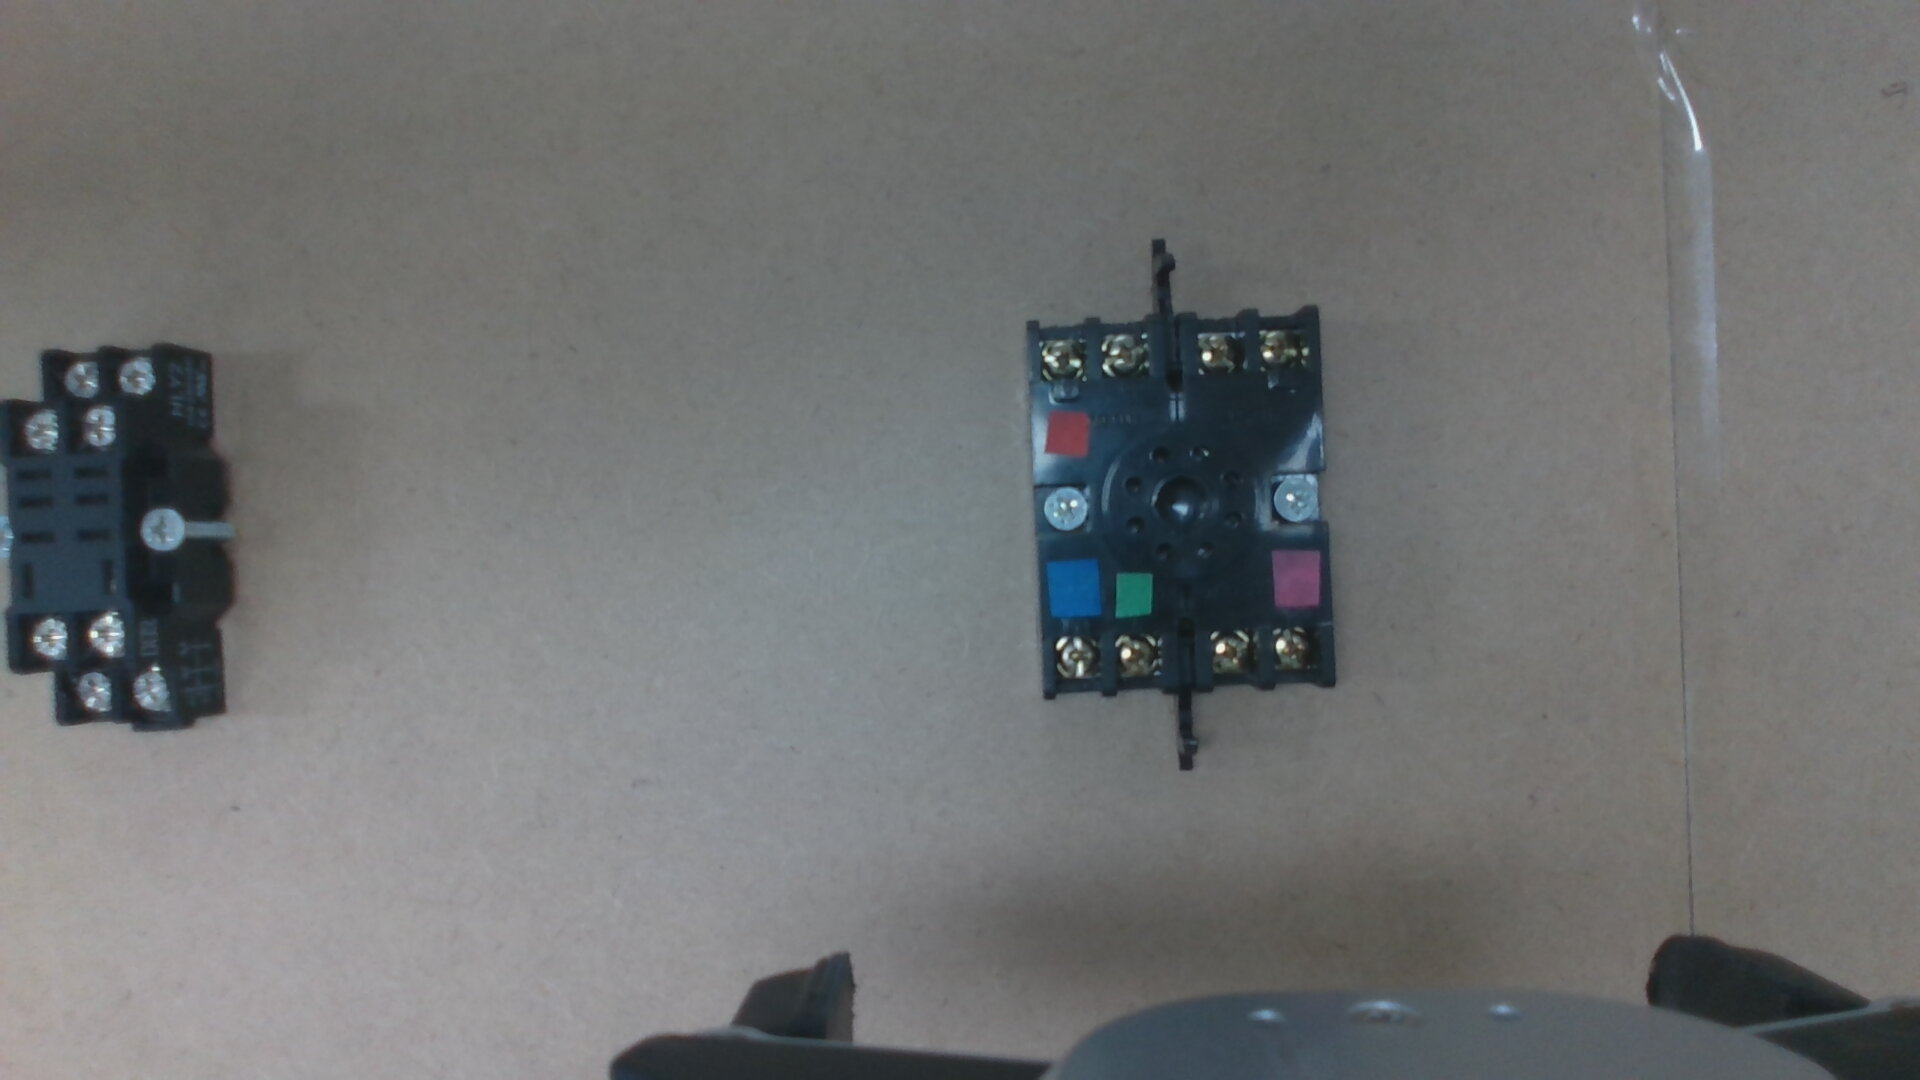timer 2: (1275, 626, 1312, 669)
timer 6: (1038, 339, 1083, 377)
timer 7: (1054, 638, 1098, 679)
timer 8: (1117, 636, 1158, 674)
